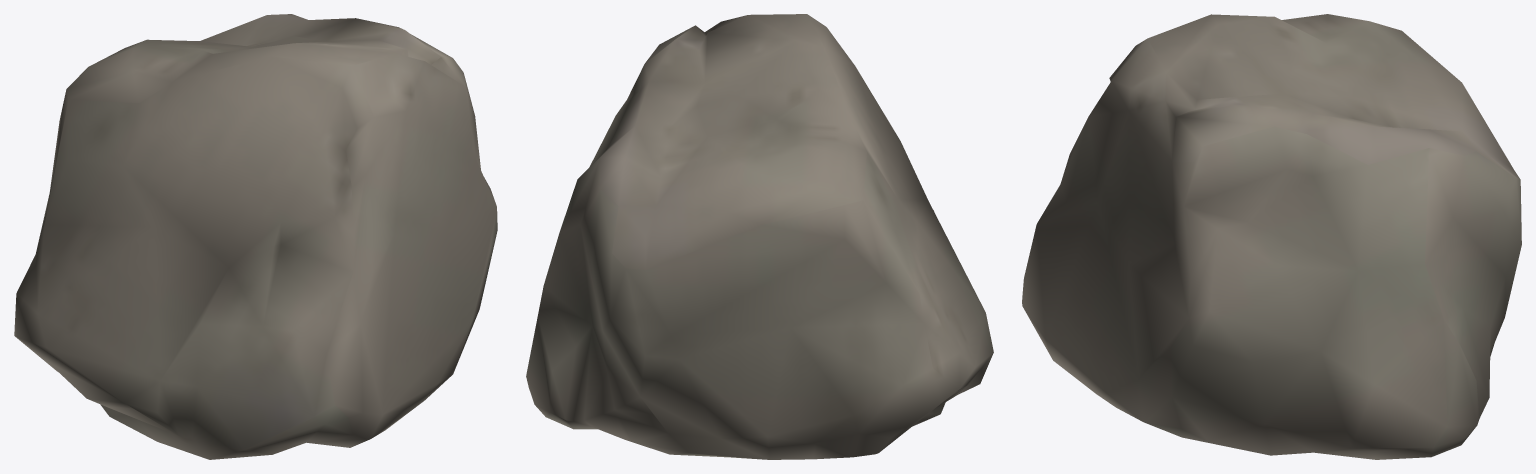
The model's file is moon_rock_02_lod2.glb.
3 renders of one model, left to right at view 1: azimuth 30°, elevation 25°; view 2: azimuth 150°, elevation 25°; view 3: azimuth 270°, elevation 25°, orthographic. The views are drawn at different scales.
Parts seen in each view (by area): view 1: moon_rock_02_LOD0; view 2: moon_rock_02_LOD0; view 3: moon_rock_02_LOD0.
Part boxes in pixels (box(x1,y1,x2,y2)): moon_rock_02_LOD0: box(14, 14, 497, 459); moon_rock_02_LOD0: box(526, 14, 993, 459); moon_rock_02_LOD0: box(1022, 14, 1521, 459).
Size of the model in its own units: 0.2452 by 0.1993 by 0.2513.
Materials: 1 (1 with a texture image).
